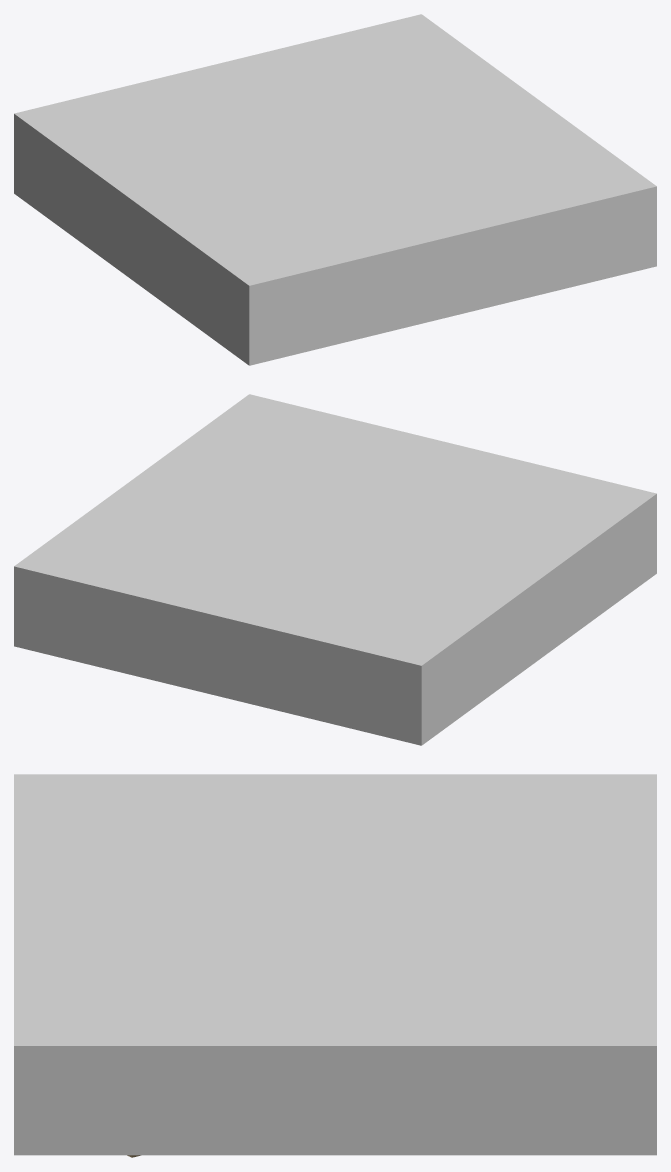
Rendered from skull_heap_opened.glb.
The picture shows the model from 3 angles, top to bottom: view 1: azimuth 30°, elevation 25°; view 2: azimuth 150°, elevation 25°; view 3: azimuth 270°, elevation 25°; orthographic projection. The views are drawn at different scales.
Visible parts, largest first — view 1: col_click; view 2: col_click; view 3: col_click.
Part boxes in pixels (x1,y1,x2,y2): col_click: (14, 14, 656, 365); col_click: (14, 394, 656, 745); col_click: (14, 774, 656, 1155).
Bounding box in the file's own units: 1.6 × 0.3754 × 1.6.
Materials: 3 (2 with a texture image).
